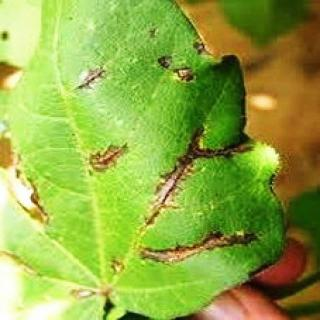blight: (31, 41, 303, 303)
